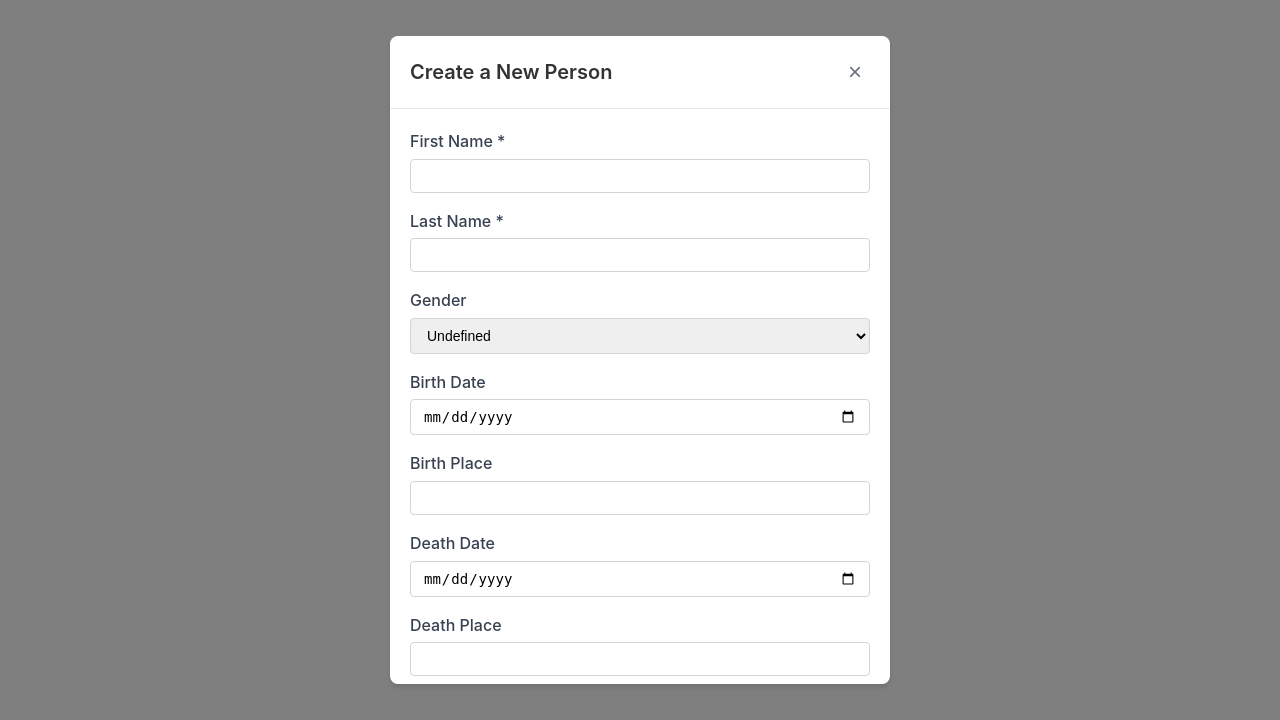
Test: CreatePersonModal › Form validation › should show error when submitting with only first name
Step 1. Type "Jean" into the field with test id "new-person-first-name" → (640, 176), box left=410, top=159, right=870, bottom=193
(page scrolled)
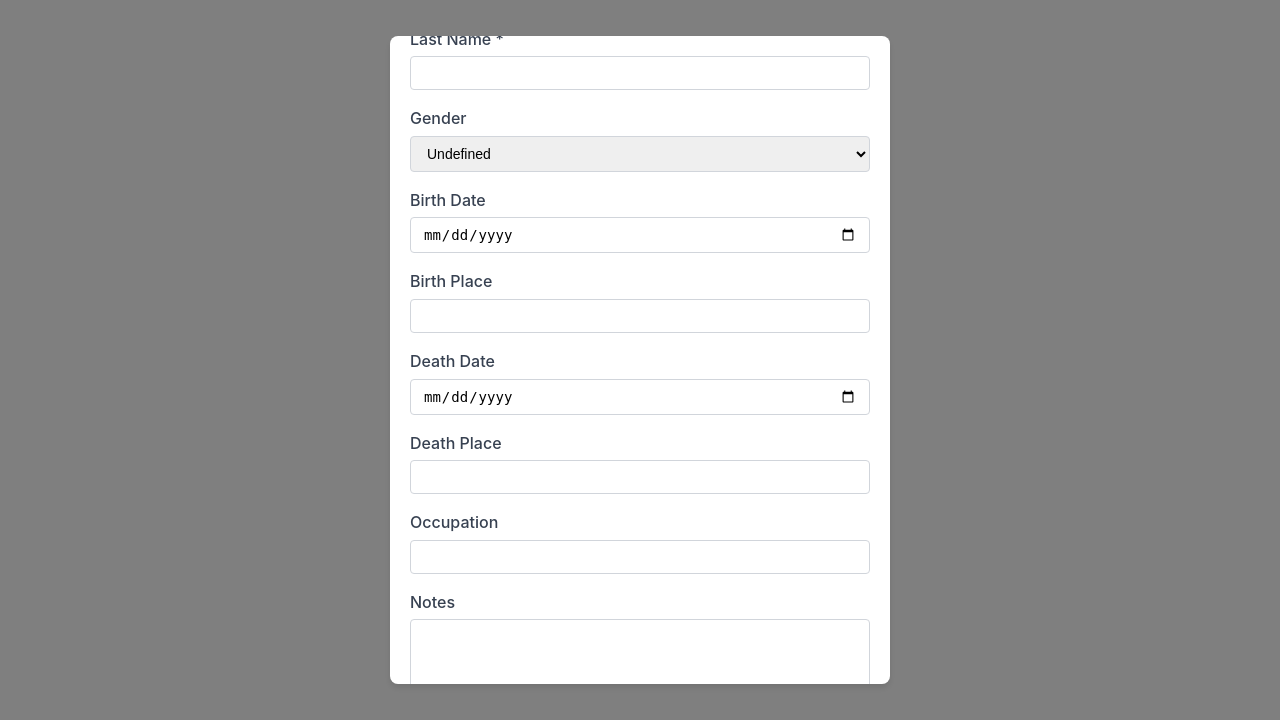
Step 2. Submit the form
(page scrolled)
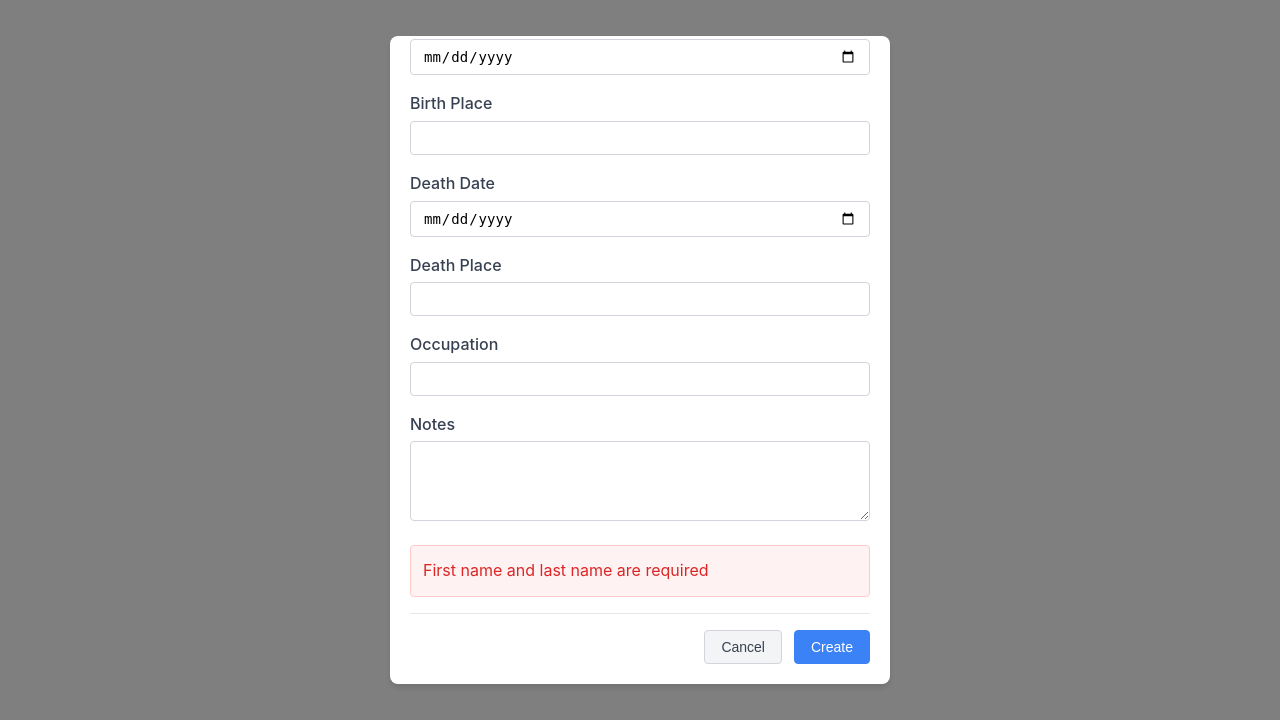
Expected: the text "First name and last name are required" is shown, left=410, top=545, right=870, bottom=596
Expected: the text with class "field-error" reads "First name and last name are required", left=423, top=560, right=708, bottom=580
